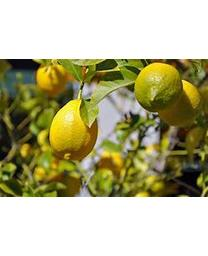lemon: (49, 96, 99, 162), (134, 64, 183, 113), (160, 80, 203, 129), (37, 62, 73, 92)
